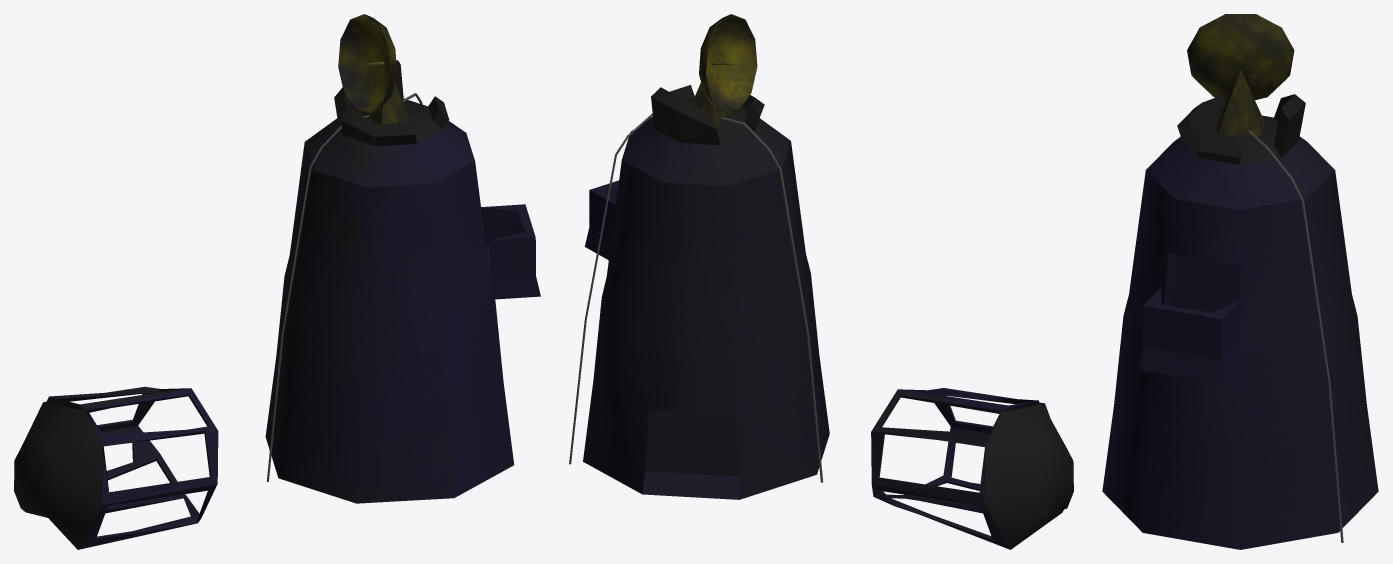
File: Lighthouse.FBX
3 views of the same model, side by side, from view 1: azimuth 30°, elevation 25°; view 2: azimuth 150°, elevation 25°; view 3: azimuth 270°, elevation 25° (orthographic). The views are drawn at different scales.
Parts seen in each view (by area): view 1: Cone001; view 2: Cone001; view 3: Cone001.
Part boxes in pixels (x1=…): Cone001: x1=14, y1=14, x2=540, y2=549; Cone001: x1=569, y1=14, x2=1073, y2=549; Cone001: x1=1102, y1=14, x2=1378, y2=549.
Bounding box in the file's own units: 2631 × 2245 × 1190.
